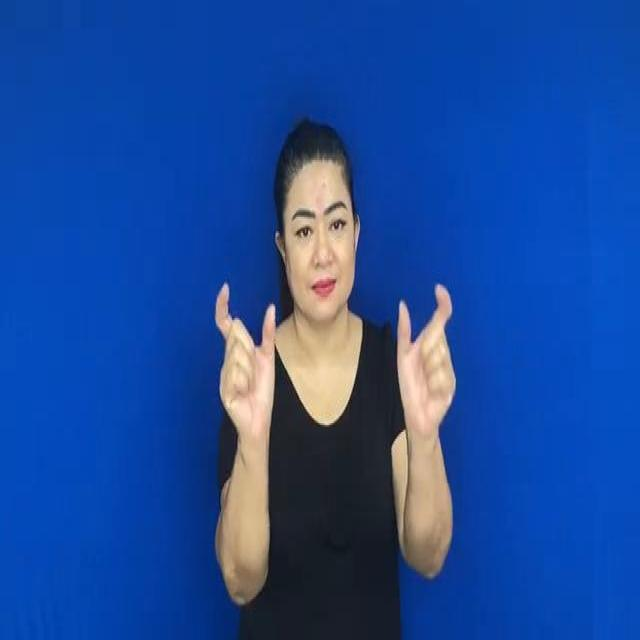crab: (388, 278, 464, 432)
